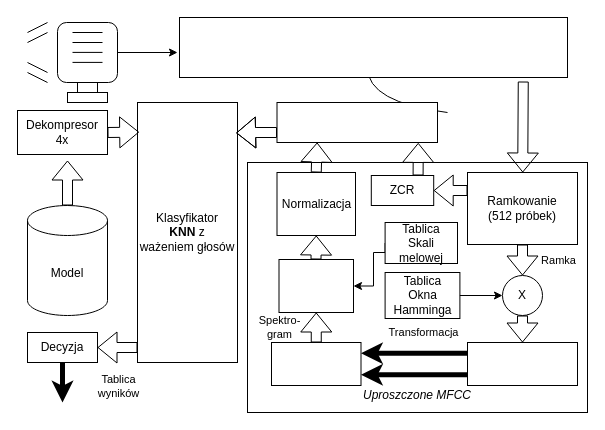
Some shapes in this 605 by 430 pixel diagram are drawn without their labels. Each missing label, with the centre of its shape:
"FFT" belongs at point 522,364.
"Mel Transformer" belongs at point 316,285.
"Moduł" belongs at point 315,364.
"Paczkowanie" belongs at point 357,122.
"Przechywcenie głośnego fragmentu" belongs at point 373,47.
